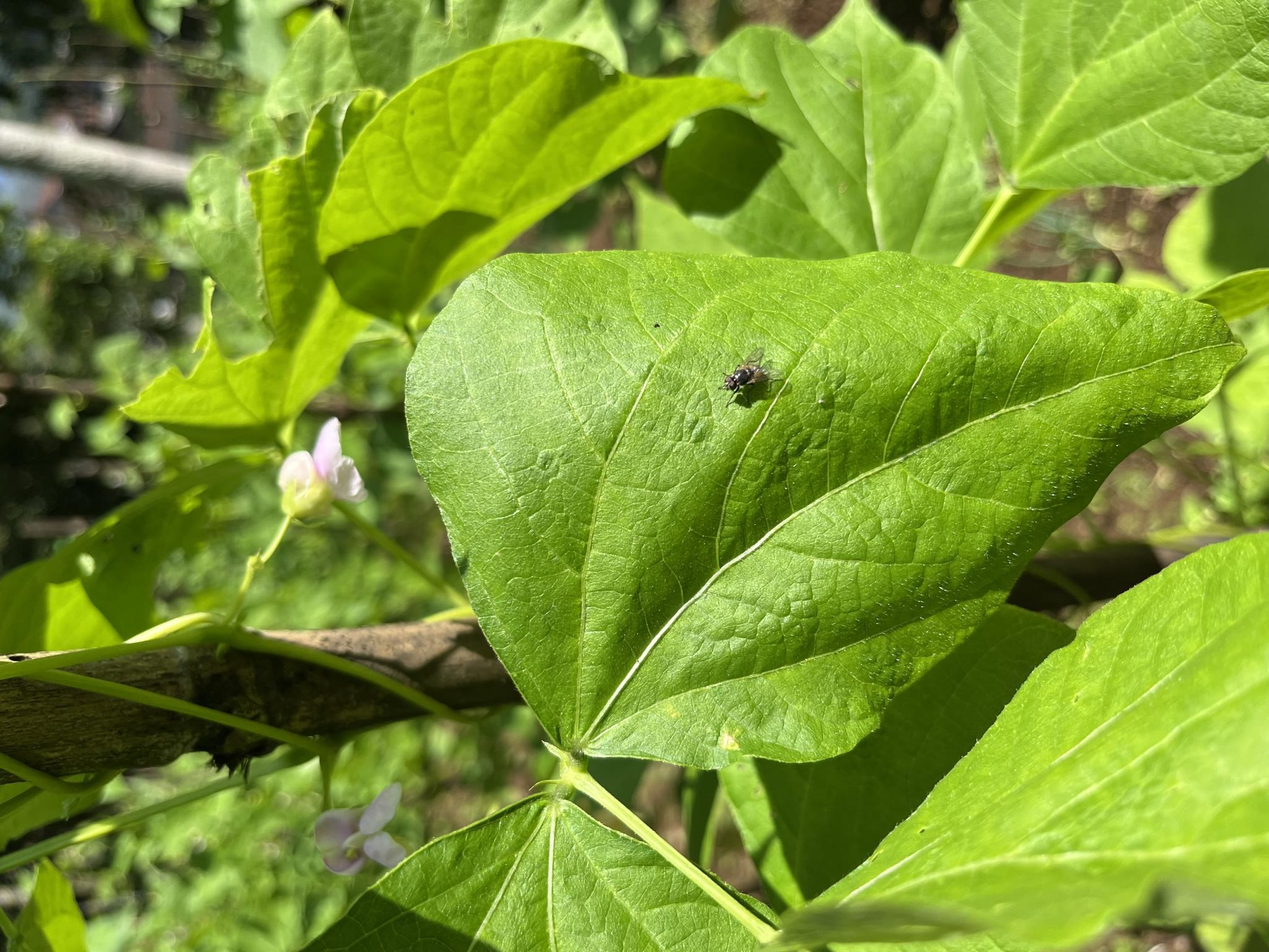sehat: (422, 243, 1064, 747)
